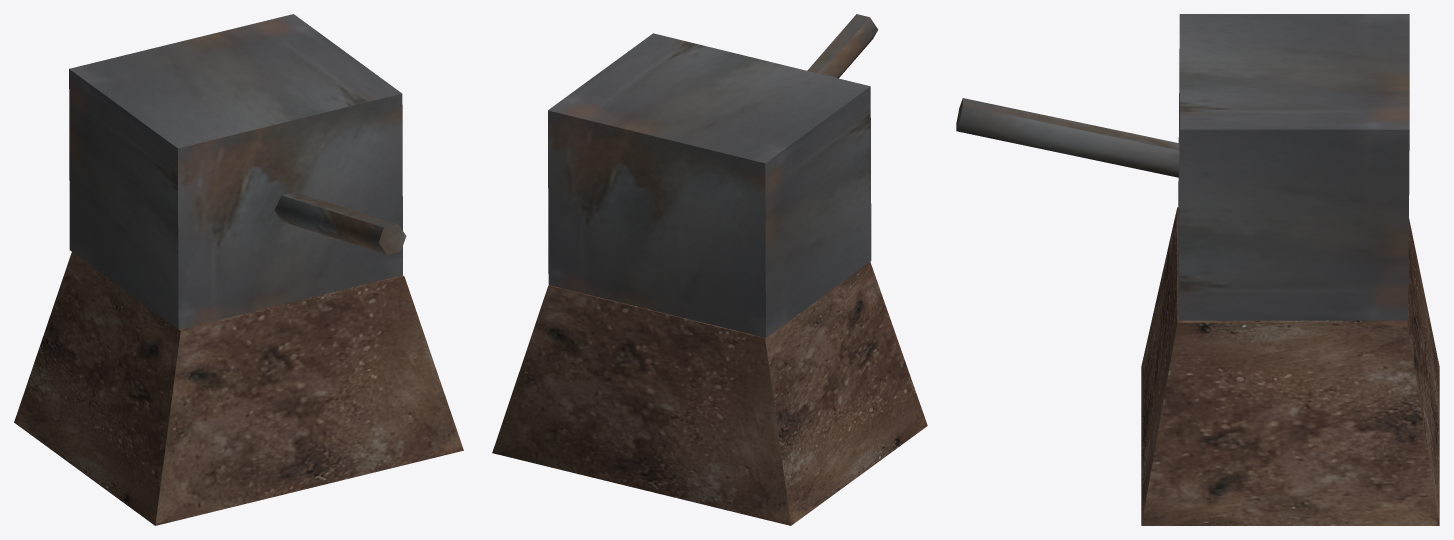
File: turret.gltf
The picture shows the model from 3 angles, left to right: view 1: azimuth 30°, elevation 25°; view 2: azimuth 150°, elevation 25°; view 3: azimuth 270°, elevation 25°; orthographic projection. The views are drawn at different scales.
Parts seen in each view (by area): view 1: turret_atomic0; view 2: turret_atomic0; view 3: turret_atomic0.
Part boxes in pixels (box(x1,y1,x2,y2)): turret_atomic0: box(14, 14, 463, 525); turret_atomic0: box(492, 14, 927, 525); turret_atomic0: box(956, 14, 1439, 525).
Size of the model in its own units: 21.59 by 23.67 by 27.75.
2 materials, 2 textured.
